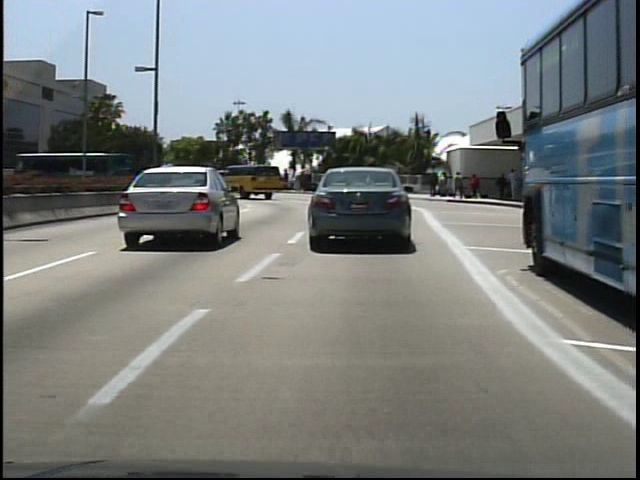person: (467, 169, 484, 201), (494, 169, 510, 201), (452, 169, 467, 200), (225, 167, 242, 192), (427, 171, 441, 199)
